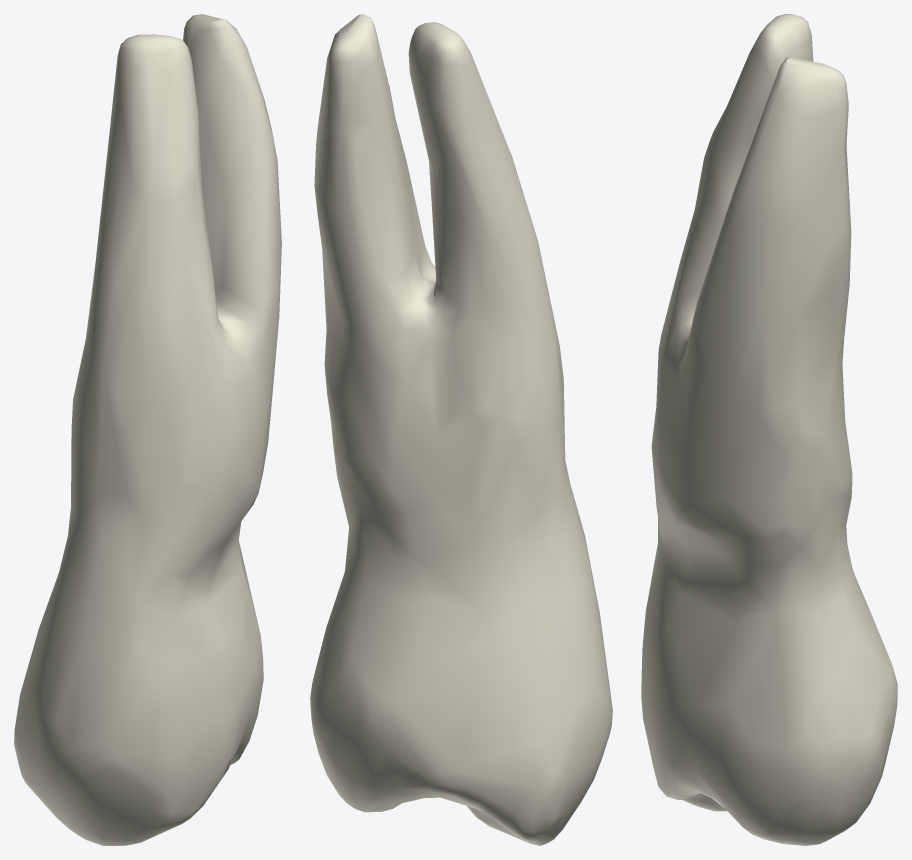
File: Right first upper premolar tooth.fbx
The picture shows the model from 3 angles, left to right: view 1: azimuth 30°, elevation 25°; view 2: azimuth 150°, elevation 25°; view 3: azimuth 270°, elevation 25°; orthographic projection. The views are drawn at different scales.
Visible parts, largest first — view 1: Right first upper premolar tooth; view 2: Right first upper premolar tooth; view 3: Right first upper premolar tooth.
Boxes of the visible parts, x1,y1,x2,y2 form: Right first upper premolar tooth: (14, 14, 281, 845); Right first upper premolar tooth: (310, 14, 612, 845); Right first upper premolar tooth: (641, 14, 897, 845).
Size of the model in its own units: 1.27 by 3.79 by 1.07.
